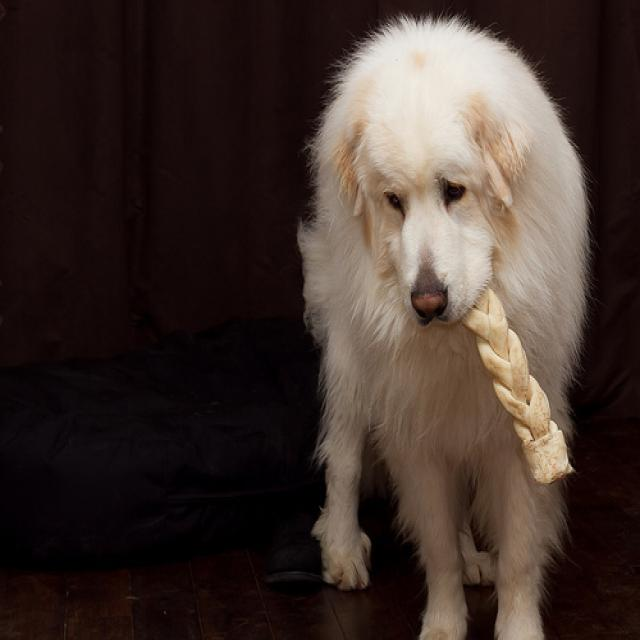dog-great_pyrenees: (288, 8, 598, 637)
